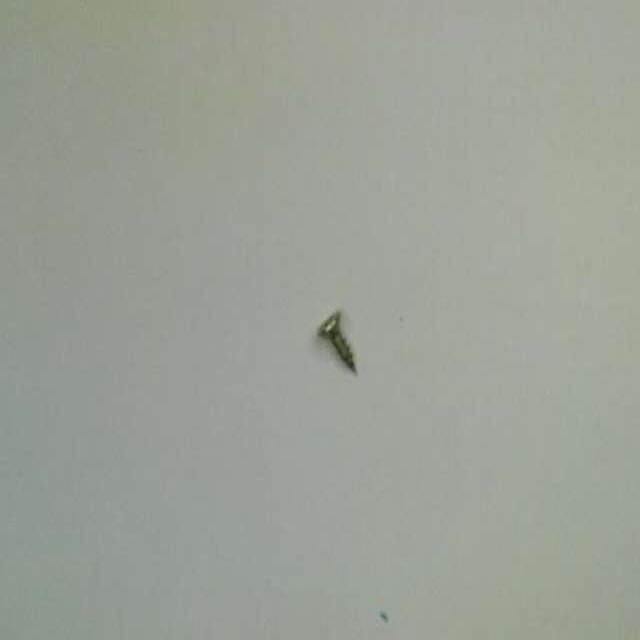Parafuso: (319, 312, 355, 369)
